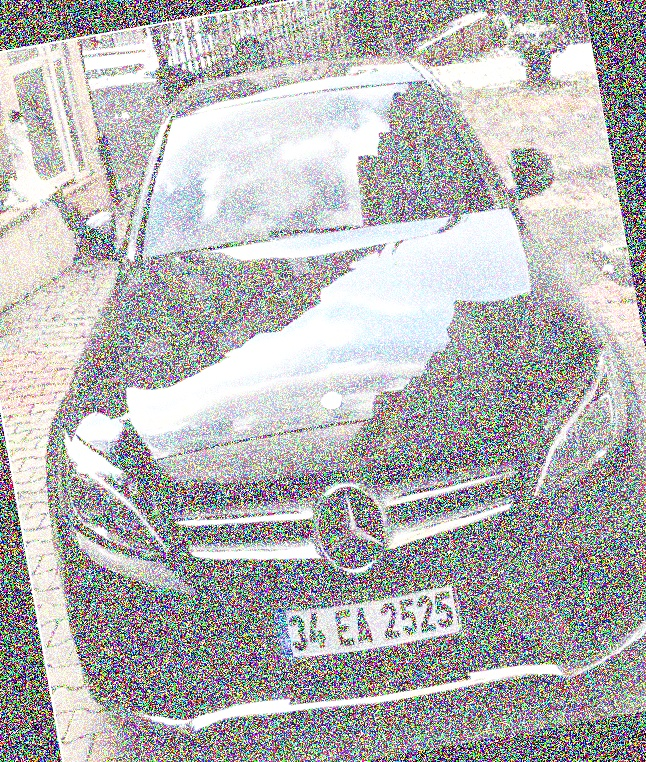plaka: (289, 592, 463, 653)
